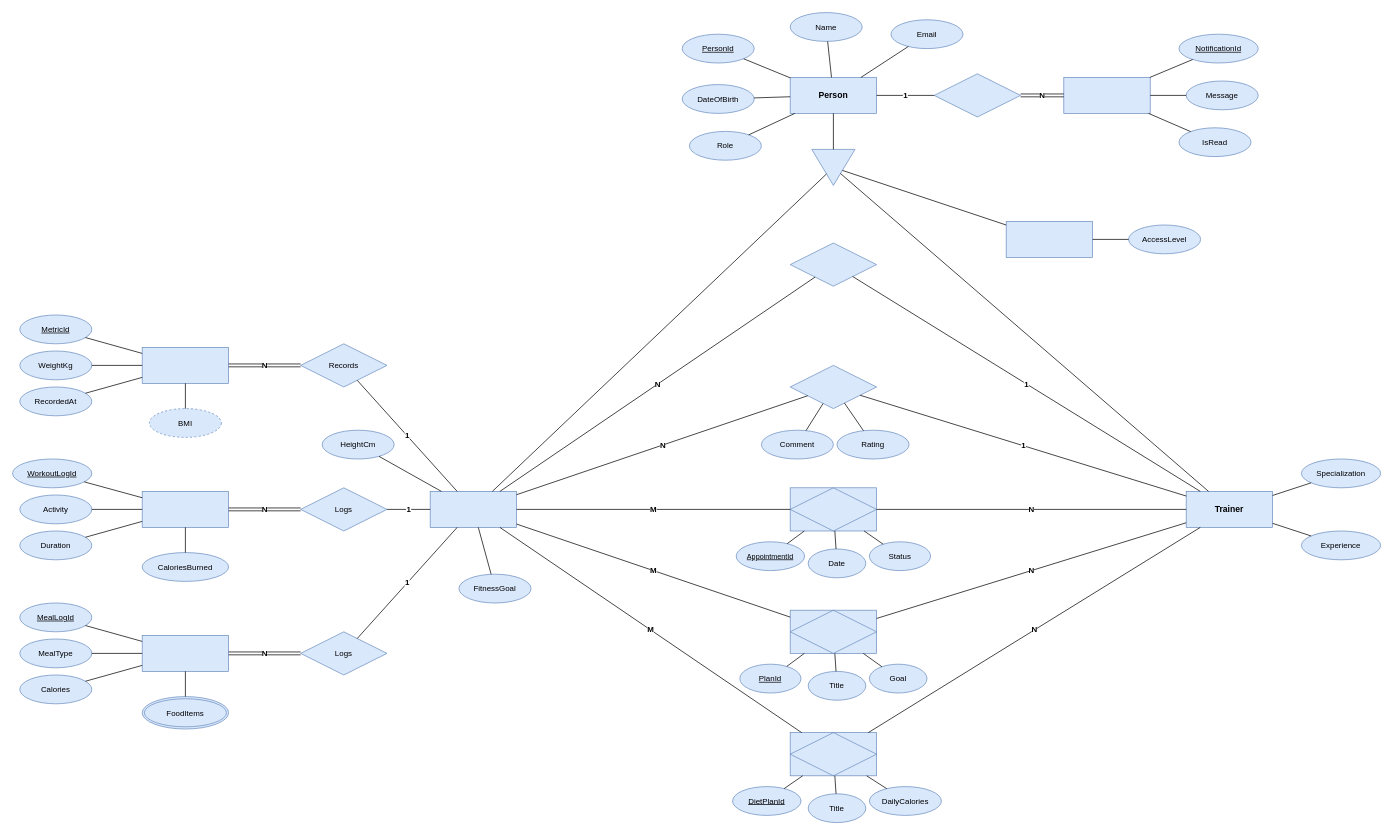
Image size: 1393x835. Some labels were removed from this diagram. The box of each missing label's shape, as (x1, y1, x2, y2) in pixels:
Admin: (1005, 221, 1093, 257)
Appointment: (789, 487, 877, 531)
Client: (429, 491, 517, 527)
DietPlan: (789, 732, 877, 776)
Gives Feedback: (789, 365, 877, 409)
HealthMetric: (141, 347, 229, 383)
ISA: (811, 149, 855, 185)
MealLog: (141, 635, 229, 671)
Notification: (1063, 77, 1150, 113)
Receives: (933, 73, 1021, 117)
Trains: (789, 242, 877, 286)
WorkoutLog: (141, 491, 229, 527)
WorkoutPlan: (789, 609, 877, 653)
